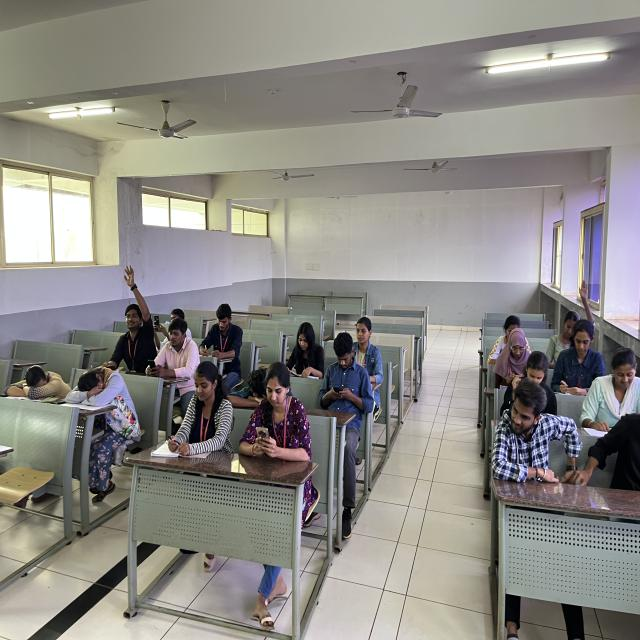Hand Rising: (112, 251, 162, 382), (555, 278, 597, 357)
Reading: (586, 347, 640, 435), (278, 316, 330, 388)
Sleeping: (65, 361, 139, 429), (1, 354, 76, 410)
Using Phone: (235, 354, 315, 459), (316, 330, 372, 412), (140, 316, 207, 383), (490, 327, 536, 382), (152, 305, 186, 342)
Writing: (152, 360, 240, 460), (192, 303, 247, 366)
